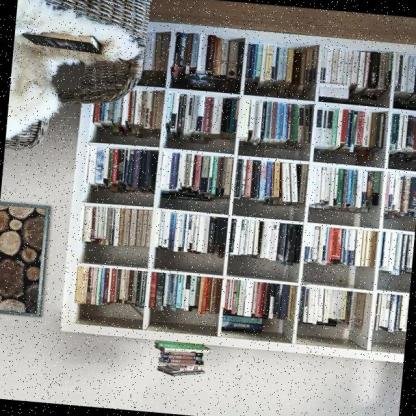Shelf: (54, 10, 416, 364)
